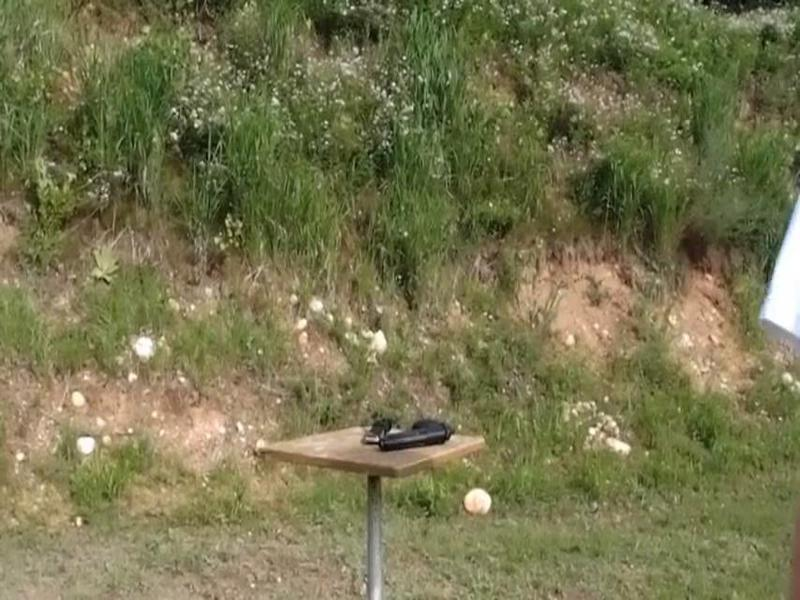Pistola: (373, 414, 470, 464)
